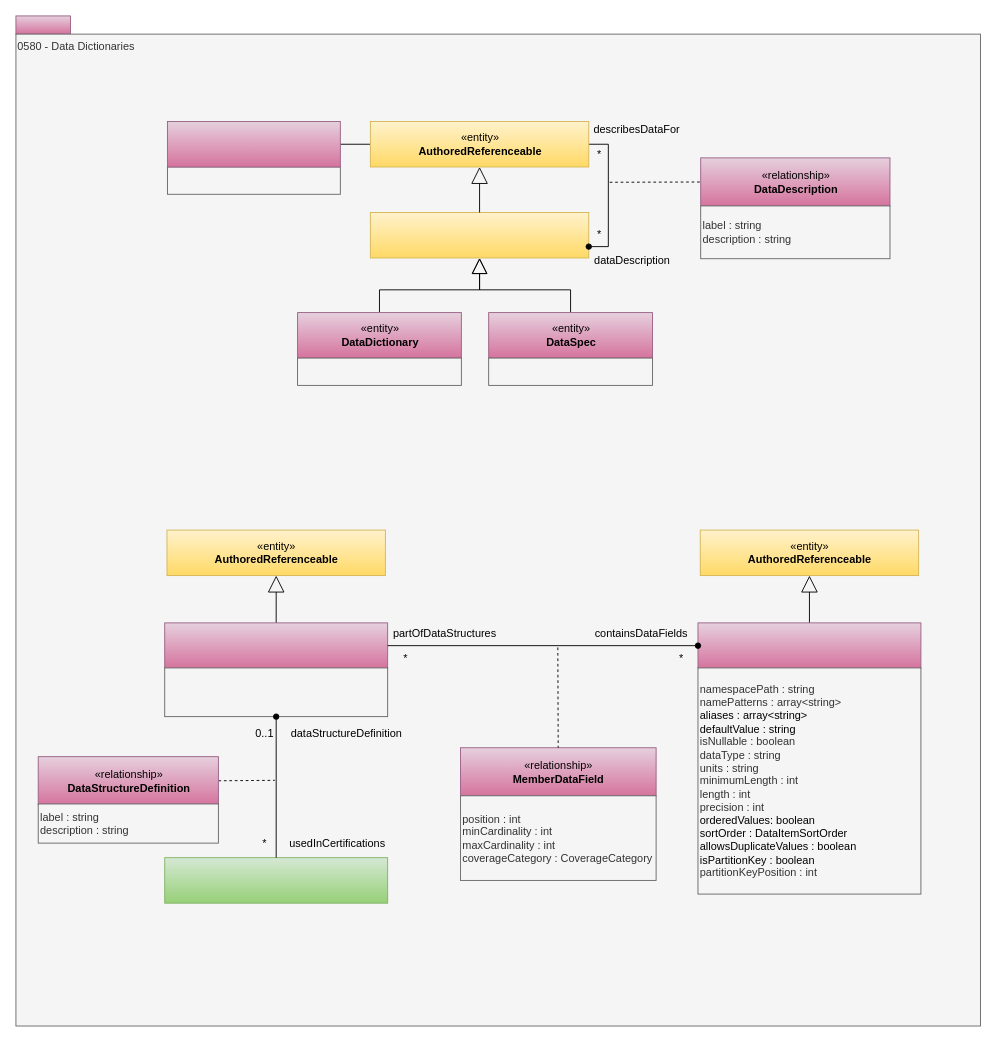
Some shapes in this 996 by 1042 pixel diagram are drawn without their labels. Here are the shapes that lost their labels. From the top down, the centre of each, then its label:
At [253,144]: "«classification» ObjectIdentifier".
At [479,235]: "«entity» Collection".
At [276,645]: "«entity» DataStructure".
At [809,645]: "«entity» DataField".
At [276,692]: "namespacePath : string namePatterns : array<string>".
At [276,880]: "«entity» CertificationType".
